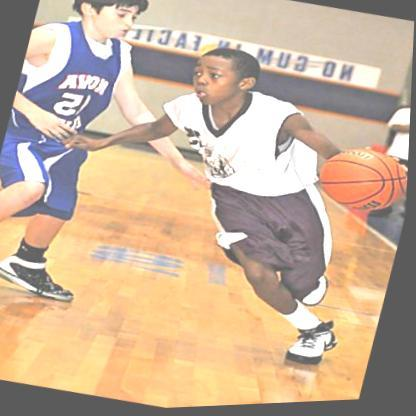basketball: (313, 142, 411, 224)
